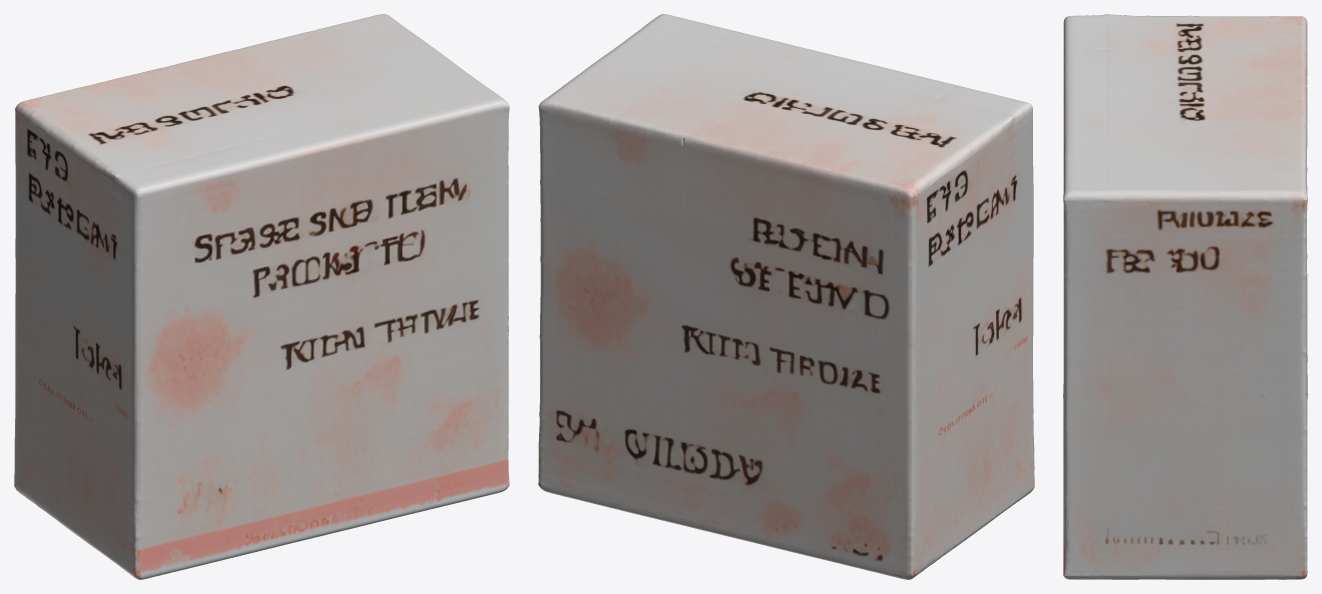
The model's file is gen_05d5758e-d92a-4eb8-8598-f0bce7ba14e5_00001_.glb.
3 views of the same model, side by side, from view 1: azimuth 30°, elevation 25°; view 2: azimuth 150°, elevation 25°; view 3: azimuth 270°, elevation 25° (orthographic).
Visible parts, largest first — view 1: temp_mesh.ply; view 2: temp_mesh.ply; view 3: temp_mesh.ply.
Part boxes in pixels (<box>): temp_mesh.ply: <box>14,14,509,579</box>; temp_mesh.ply: <box>538,14,1034,579</box>; temp_mesh.ply: <box>1063,14,1307,579</box>.
Bounding box in the file's own units: 1.97 × 1.97 × 1.13.
Materials: 1 (1 with a texture image).
